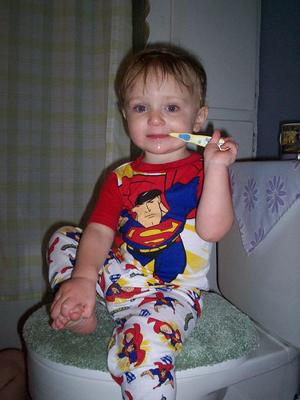person: (52, 46, 238, 400)
